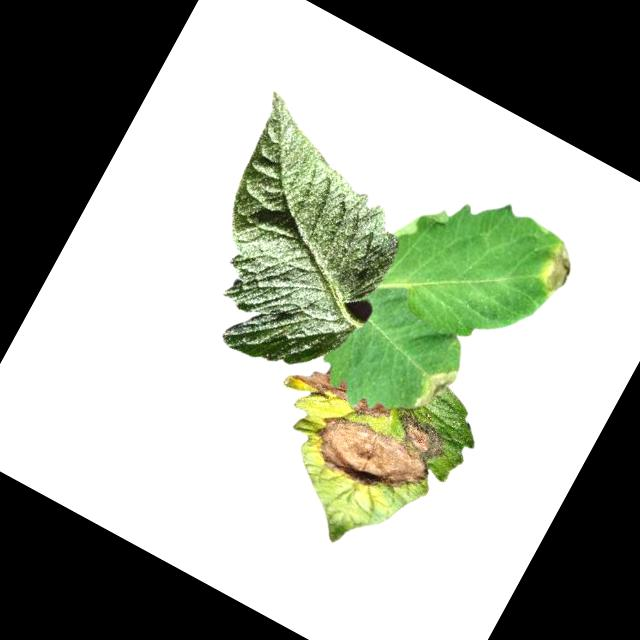Late_blight: (303, 374, 454, 512), (528, 235, 585, 303), (291, 358, 353, 406), (412, 359, 462, 418), (352, 392, 392, 427)
